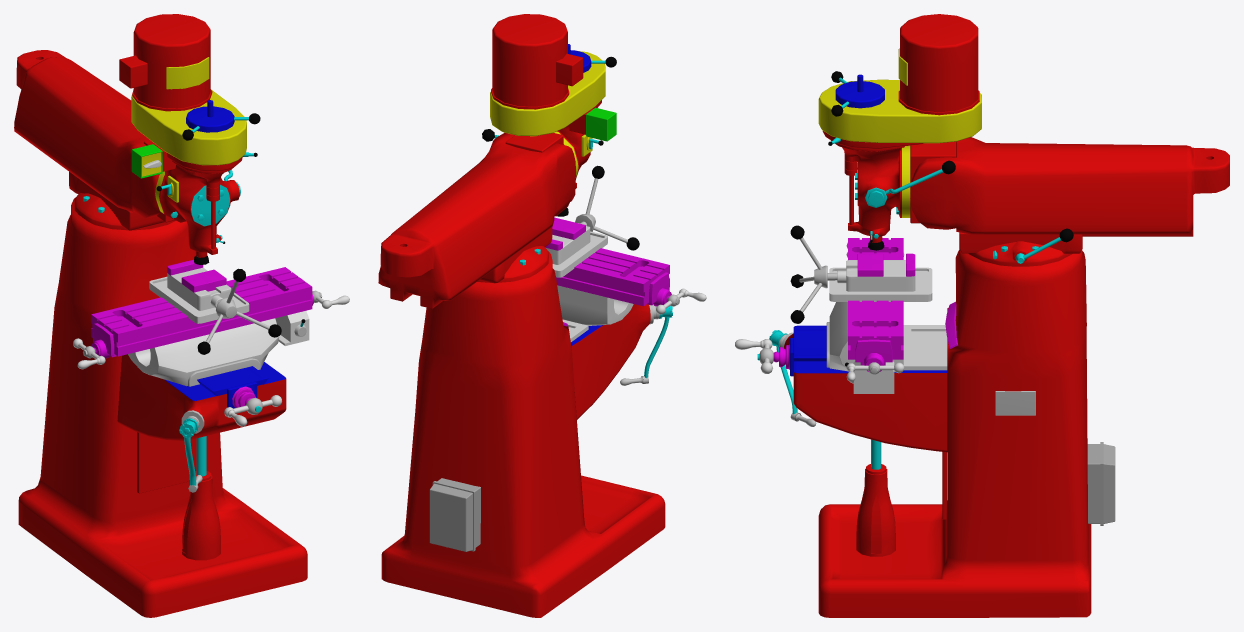
The model's file is WebbMillingMachine.fbx.
3 renders of one model, left to right at view 1: azimuth 30°, elevation 25°; view 2: azimuth 150°, elevation 25°; view 3: azimuth 270°, elevation 25°, orthographic. The views are drawn at different scales.
Parts seen in each view (by area): view 1: WebbMachine_Base, FrontTripleSpinner, Front_Spinning_Lever; view 2: WebbMachine_Base, FrontTripleSpinner, LeftSide_Spinning_Lever; view 3: WebbMachine_Base, FrontTripleSpinner.
Part boxes in pixels (x1=…): WebbMachine_Base: x1=14, y1=14, x2=322, y2=617; FrontTripleSpinner: x1=197, y1=268, x2=281, y2=354; Front_Spinning_Lever: x1=224, y1=395, x2=281, y2=426; WebbMachine_Base: x1=378, y1=14, x2=679, y2=617; FrontTripleSpinner: x1=585, y1=165, x2=639, y2=250; LeftSide_Spinning_Lever: x1=620, y1=317, x2=669, y2=385; WebbMachine_Base: x1=757, y1=14, x2=1229, y2=617; FrontTripleSpinner: x1=790, y1=225, x2=822, y2=323.
Bounding box in the file's own units: 3.7 × 6.9 × 5.66.
